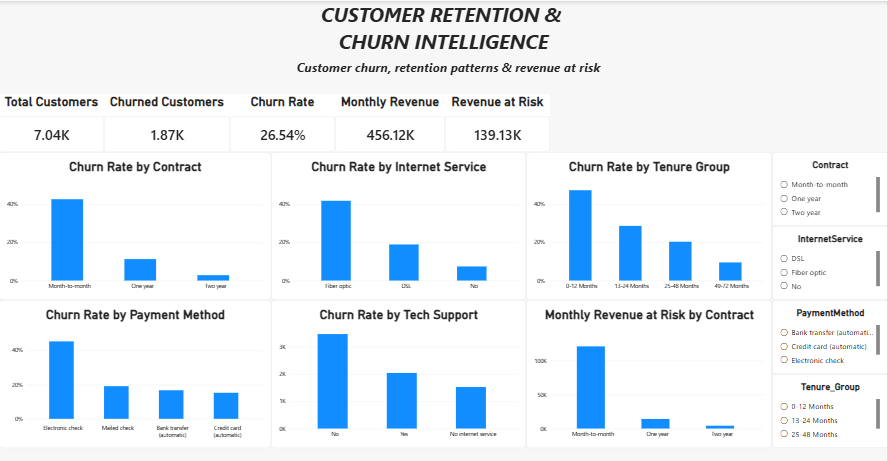

Layout of this report page (visuals, bound fields, positions):
{"tool":"powerbi","page":{"name":"Executive Overview","canvas":[1920,1080],"ordinal":0},"visuals":[{"type":"cardVisual","title":"Total Customers","fields":{"Data":["Churn_Analysis.Total_Customers"]},"box":[0,200.9,226.8,126],"z":0},{"type":"cardVisual","title":"Churned Customers","fields":{"Data":["Churn_Analysis.Churned_Customers"]},"box":[226.8,200.9,272.2,125.3],"z":1000},{"type":"cardVisual","title":"Churn Rate","fields":{"Data":["Churn_Analysis.Churn_Rate"]},"box":[499,200.9,226.8,126],"z":1001},{"type":"cardVisual","title":"Monthly Revenue","fields":{"Data":["Churn_Analysis.Monthly_Revenue"]},"box":[725.8,200.9,237.6,125.3],"z":1002},{"type":"cardVisual","title":"Revenue at Risk","fields":{"Data":["Churn_Analysis.Revenue_at_Risk"]},"box":[963.4,200.9,226.8,126],"z":1003},{"type":"clusteredColumnChart","title":"Churn Rate by Contract","fields":{"Y":["Churn_Analysis.Churn_Rate"],"Category":["Churn_Analysis.Contract"]},"box":[0,326.2,587.5,319.7],"z":1004},{"type":"clusteredColumnChart","title":"Churn Rate by Tenure Group","fields":{"Category":["Churn_Analysis.Tenure_Group"],"Y":["Churn_Analysis.Churn_Rate"]},"box":[1138.3,326.2,531.4,319.7],"z":1006},{"type":"clusteredColumnChart","title":"Churn Rate by Payment Method","fields":{"Category":["Churn_Analysis.PaymentMethod"],"Y":["Churn_Analysis.Churn_Rate"]},"box":[0,645.8,587.5,319.7],"z":1007},{"type":"clusteredColumnChart","title":"Churn Rate by Internet Service","fields":{"Y":["Churn_Analysis.Churn_Rate"],"Category":["Churn_Analysis.InternetService"]},"box":[587.5,326.2,550.8,319.7],"z":1008},{"type":"clusteredColumnChart","title":"Monthly Revenue at Risk by Contract","fields":{"Y":["Churn_Analysis.Revenue_at_Risk"],"Category":["Churn_Analysis.Contract"]},"box":[1138.3,645.8,531.4,319.7],"z":1009},{"type":"clusteredColumnChart","title":"Churn Rate by Tech Support","fields":{"Category":["Churn_Analysis.TechSupport"],"Y":["CountNonNull(Churn_Analysis.Churn)"]},"box":[587.5,645.8,550.8,319.7],"z":1010},{"type":"textbox","box":[0,0,1920.2,125.3],"z":1011},{"type":"textbox","box":[0,125.3,1920.2,75.6],"z":1012},{"type":"listSlicer","fields":{"Values":["Churn_Analysis.Contract"]},"box":[1669.7,326.2,250.6,159.8],"z":1013},{"type":"listSlicer","fields":{"Values":["Churn_Analysis.InternetService"]},"box":[1669.7,486,250.6,159.8],"z":1014},{"type":"listSlicer","fields":{"Values":["Churn_Analysis.PaymentMethod"]},"box":[1669.7,645.8,250.6,159.8],"z":1015},{"type":"listSlicer","fields":{"Values":["Churn_Analysis.Tenure_Group"]},"box":[1669.7,805.7,250.6,159.8],"z":1016}]}

Visuals, with their boxes on the page's 1920x1080 design canvas (x1, y1, x2, y2). These are canvas units, not pixel positions in the 888x461 screenshot, which may show the page scaled, cropped or inside an application window:
"Total Customers" cardVisual: <box>0,201,227,327</box>
"Churned Customers" cardVisual: <box>227,201,499,326</box>
"Churn Rate" cardVisual: <box>499,201,726,327</box>
"Monthly Revenue" cardVisual: <box>726,201,963,326</box>
"Revenue at Risk" cardVisual: <box>963,201,1190,327</box>
"Churn Rate by Contract" clusteredColumnChart: <box>0,326,588,646</box>
"Churn Rate by Tenure Group" clusteredColumnChart: <box>1138,326,1670,646</box>
"Churn Rate by Payment Method" clusteredColumnChart: <box>0,646,588,966</box>
"Churn Rate by Internet Service" clusteredColumnChart: <box>588,326,1138,646</box>
"Monthly Revenue at Risk by Contract" clusteredColumnChart: <box>1138,646,1670,966</box>
"Churn Rate by Tech Support" clusteredColumnChart: <box>588,646,1138,966</box>
textbox: <box>0,0,1920,125</box>
textbox: <box>0,125,1920,201</box>
listSlicer - Churn_Analysis.Contract: <box>1670,326,1920,486</box>
listSlicer - Churn_Analysis.InternetService: <box>1670,486,1920,646</box>
listSlicer - Churn_Analysis.PaymentMethod: <box>1670,646,1920,806</box>
listSlicer - Churn_Analysis.Tenure_Group: <box>1670,806,1920,966</box>
